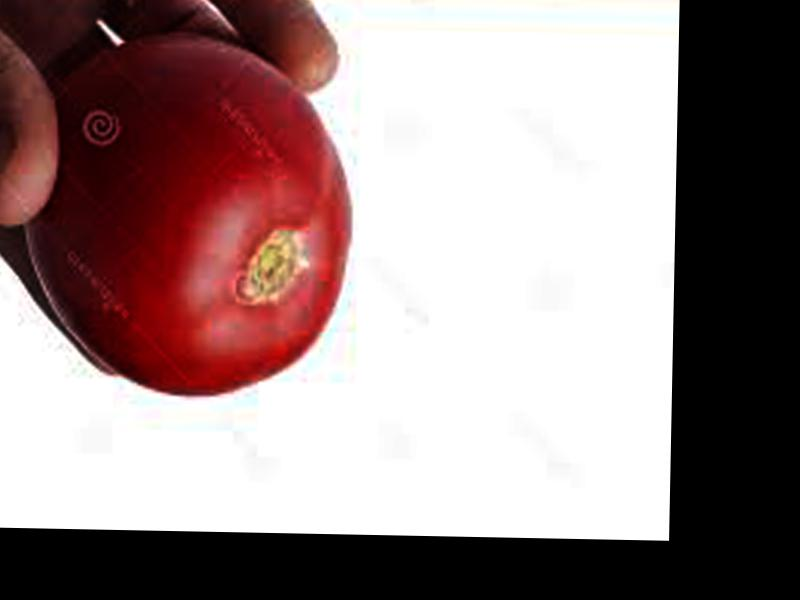Tomato: (20, 31, 353, 398)
